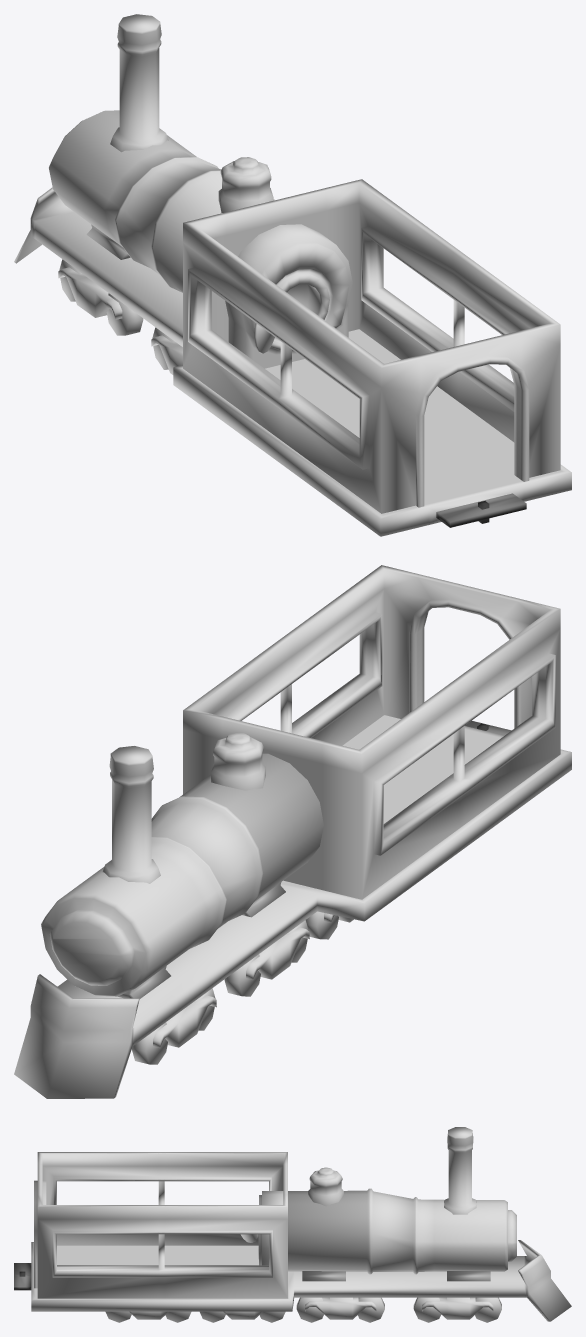
The model's file is Escudo.fbx.
3 renders of one model, top to bottom at view 1: azimuth 30°, elevation 25°; view 2: azimuth 150°, elevation 25°; view 3: azimuth 270°, elevation 25°, orthographic. The views are drawn at different scales.
Visible parts, largest first — view 1: Locomotora; view 2: Locomotora; view 3: Locomotora.
Part boxes in pixels (left/top/right/bottom): Locomotora: left=14, top=14, right=571, bottom=536; Locomotora: left=14, top=565, right=571, bottom=1098; Locomotora: left=14, top=1127, right=571, bottom=1322.
Size of the model in its own units: 480 by 672 by 1909.
